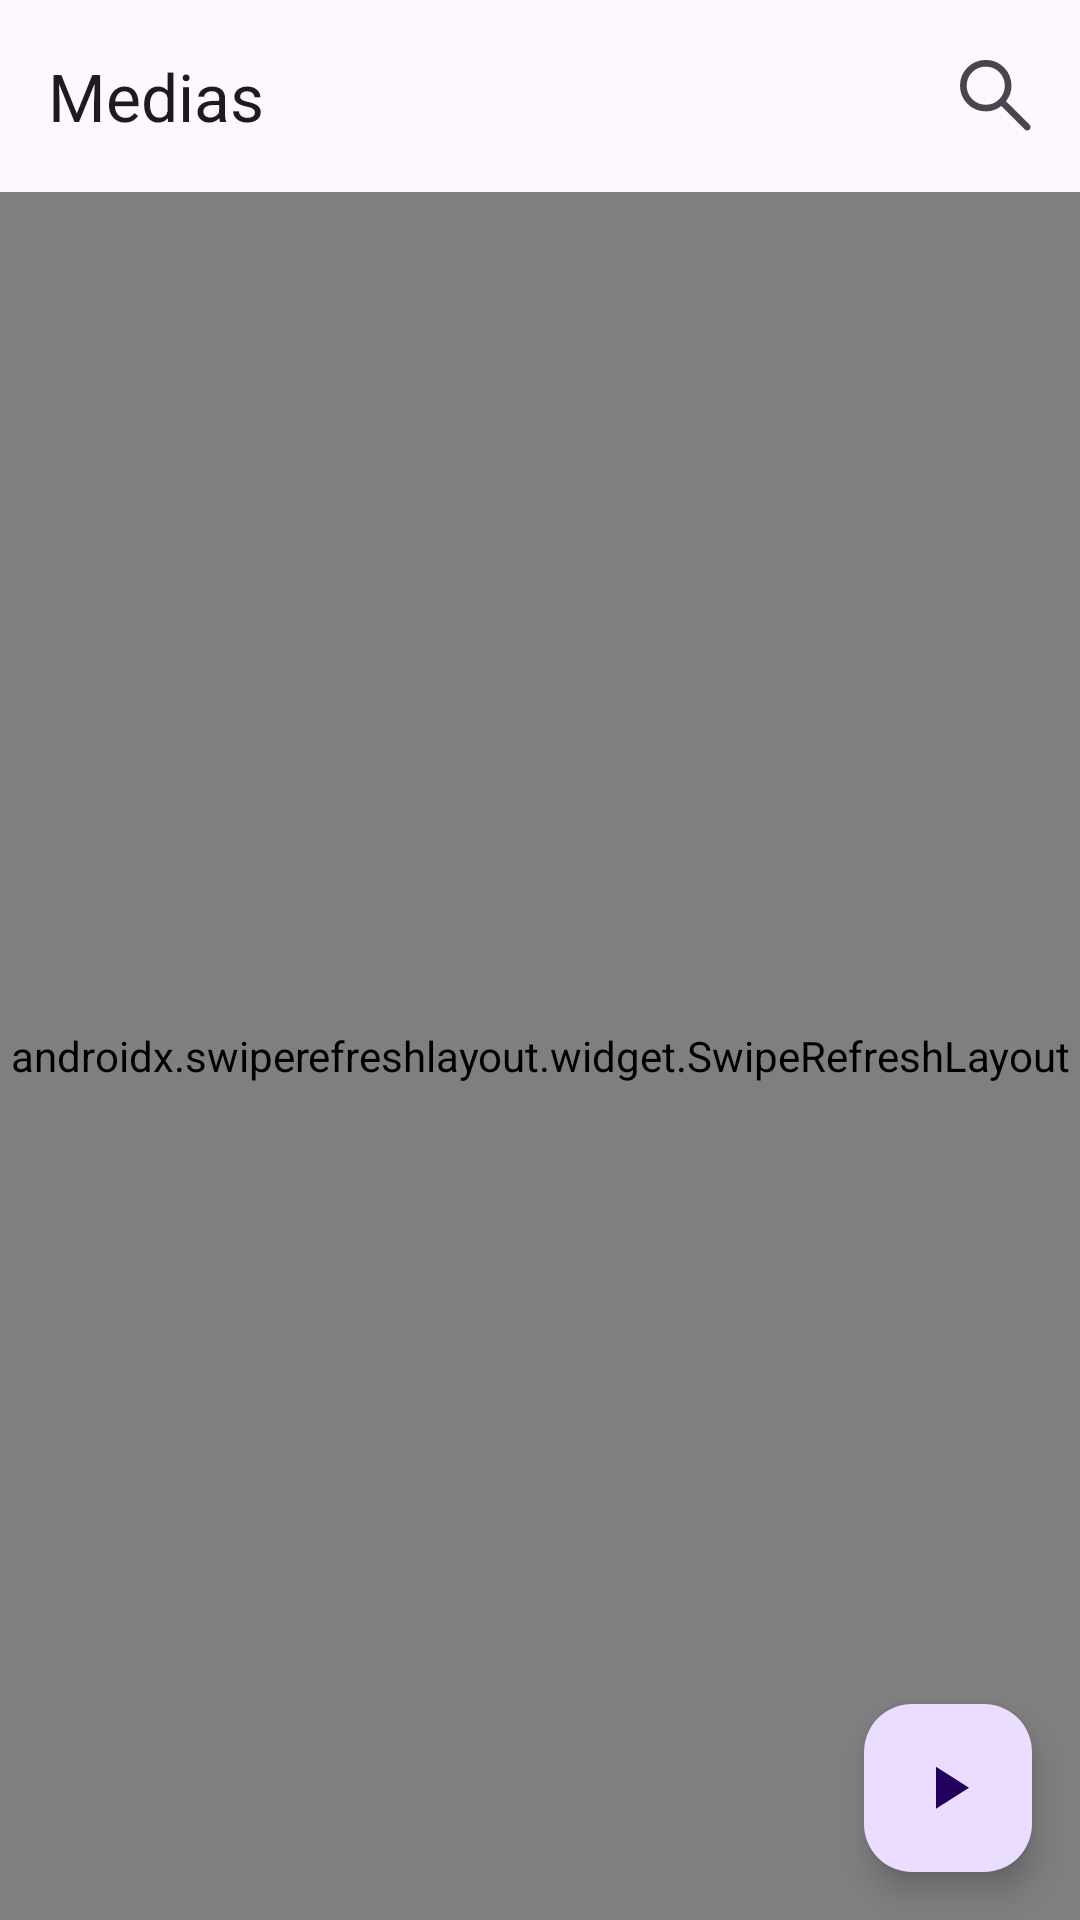

Icons on this 1080px x 1920px Android screen, each with the point to tap as (x=x, y=y):
mediacontroller play arrow: (x=948, y=1788)
